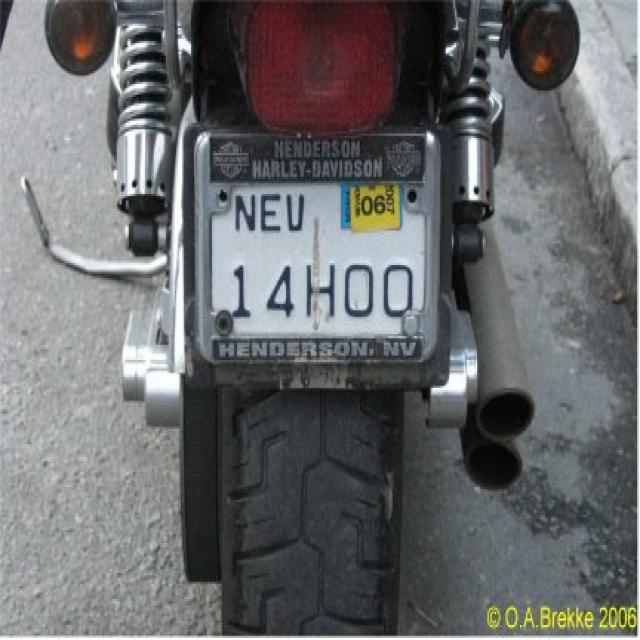license_plate: (191, 130, 442, 368)
